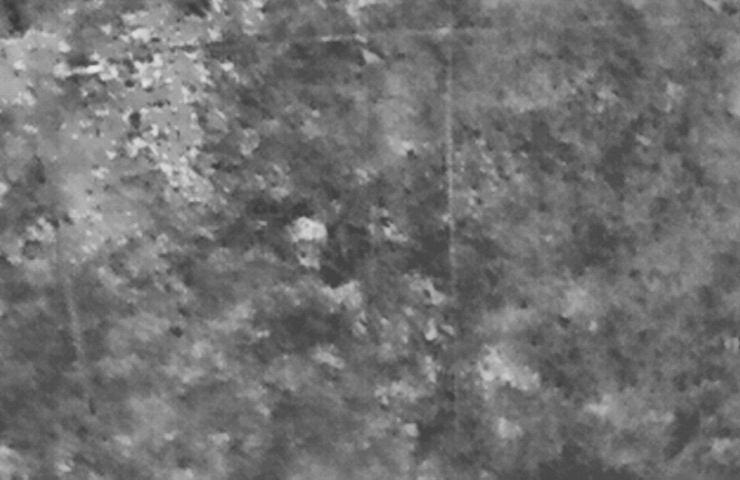landmines: (291, 215, 329, 250)
